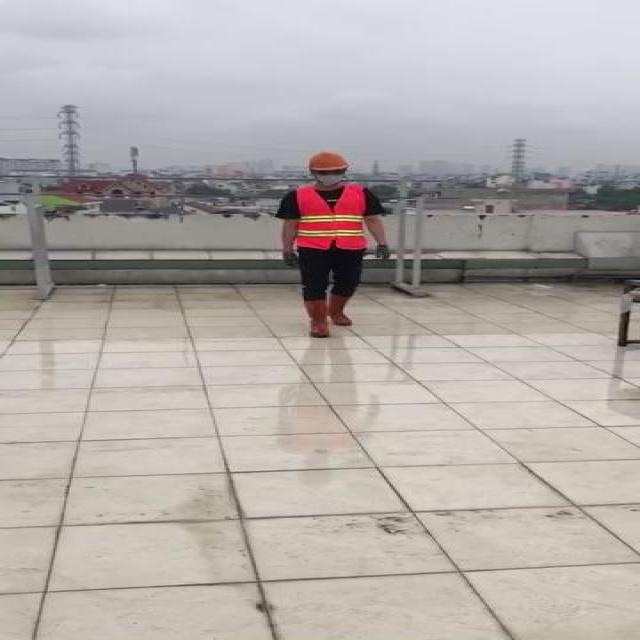boots: (300, 297, 330, 336), (325, 289, 354, 327)
face_mask: (315, 168, 345, 185)
glasses: (313, 168, 347, 176)
hand_glove: (372, 245, 394, 263), (279, 251, 297, 270)
head_helmet: (306, 151, 348, 171)
person: (275, 152, 390, 340)
vest: (295, 185, 368, 252)
